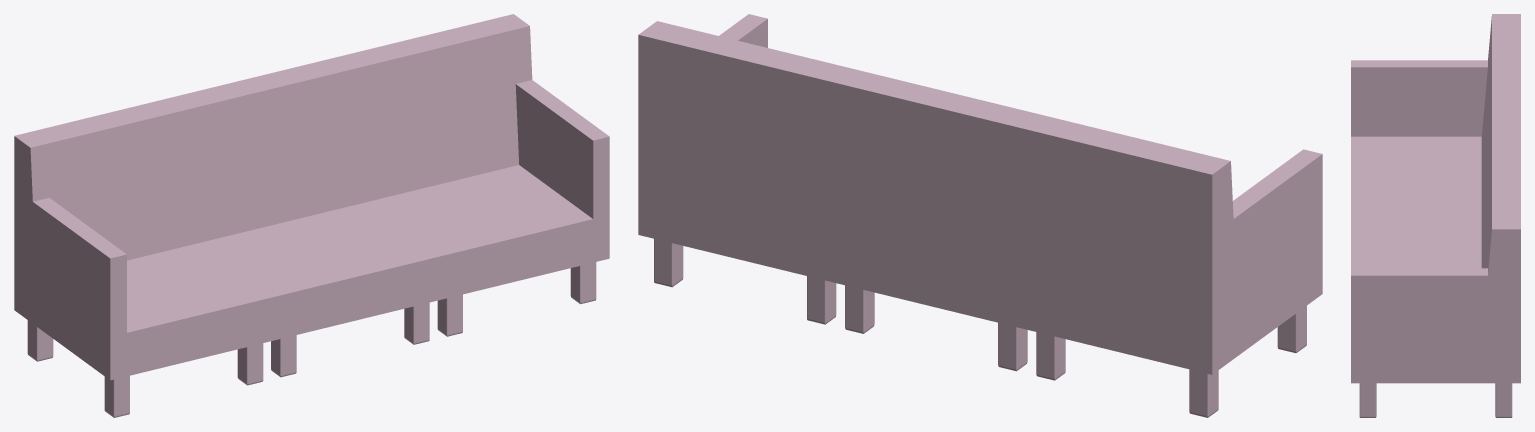
File: Daring Amberis-Leelo.glb
3 views of the same model, side by side, from view 1: azimuth 30°, elevation 25°; view 2: azimuth 150°, elevation 25°; view 3: azimuth 270°, elevation 25° (orthographic). The views are drawn at different scales.
Visible parts, largest first — view 1: Mesh_Mesh_head_geo.001_lambert2SG.001; view 2: Mesh_Mesh_head_geo.001_lambert2SG.001; view 3: Mesh_Mesh_head_geo.001_lambert2SG.001.
Part boxes in pixels (x1,y1,x2,y2): Mesh_Mesh_head_geo.001_lambert2SG.001: (14, 14, 609, 417); Mesh_Mesh_head_geo.001_lambert2SG.001: (638, 14, 1322, 417); Mesh_Mesh_head_geo.001_lambert2SG.001: (1351, 14, 1520, 417).
Bounding box in the file's own units: 0.06 × 0.025 × 0.02.
